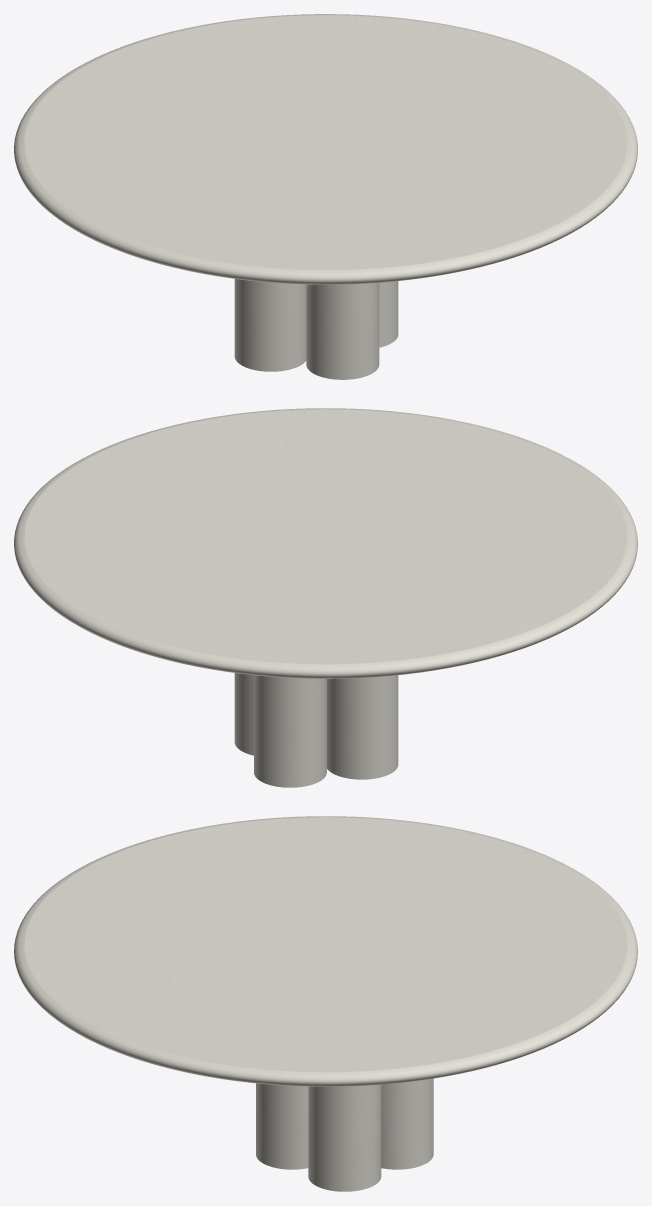
The model's file is pale_round_round_secondtable.glb.
3 renders of one model, top to bottom at view 1: azimuth 30°, elevation 25°; view 2: azimuth 150°, elevation 25°; view 3: azimuth 270°, elevation 25°, orthographic.
Visible parts, largest first — view 1: round_round, secondtable; view 2: round_round, secondtable; view 3: round_round, secondtable.
Boxes of the visible parts, x1,y1,x2,y2 form: round_round: (14, 14, 637, 284); secondtable: (234, 279, 398, 379); round_round: (14, 408, 637, 678); secondtable: (234, 673, 398, 787); round_round: (14, 816, 637, 1086); secondtable: (256, 1078, 433, 1191).
Bounding box in the file's own units: 6.75 × 2.5 × 6.75.
Materials: 1 (1 with a texture image).
